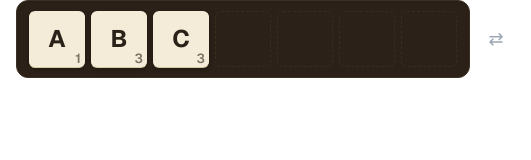
Test: TileRack › shuffle keeps the same tiles and is disabled with fewer than two
This screenshot has width=531, height=160.
What coordinates should you click on to do the following:
click the button named "Mezclar fichas"
I would click on:
 (496, 39)
Its box is [478,21,514,57].
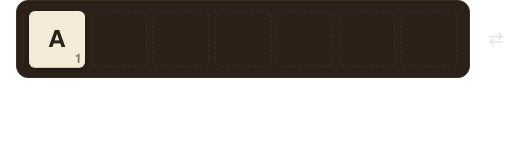
Expected: the button named "Mezclar fichas" is disabled, [478,21,514,57]
